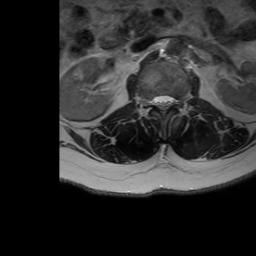CCS_normal: (159, 89, 166, 119)
LFS_stenosis: (174, 89, 181, 112)
LLS_normal: (166, 87, 174, 113)
RFS_stenosis: (145, 89, 152, 113)
RLS_normal: (152, 87, 159, 115)
